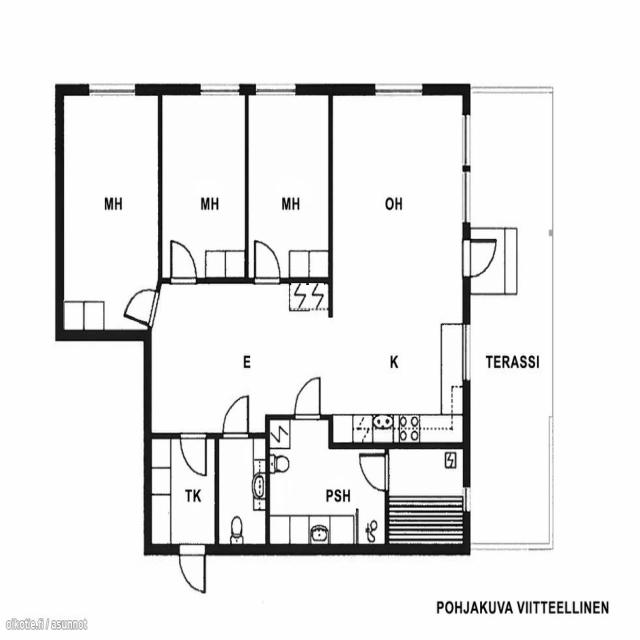door: (124, 281, 160, 328), (178, 544, 204, 592), (463, 240, 495, 276), (180, 433, 206, 476), (254, 241, 280, 283), (170, 241, 196, 283), (359, 454, 389, 490), (294, 379, 320, 420), (223, 396, 248, 438)
